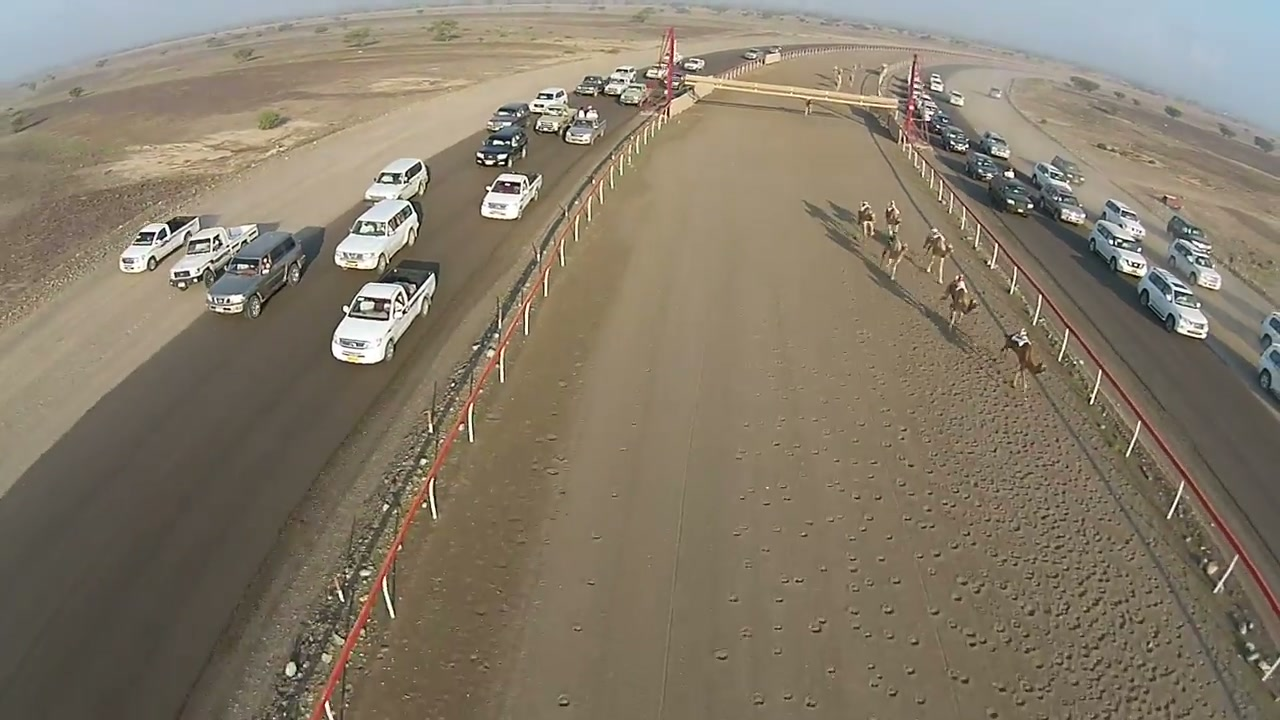animal_foot_print: (737, 290, 1211, 718)
